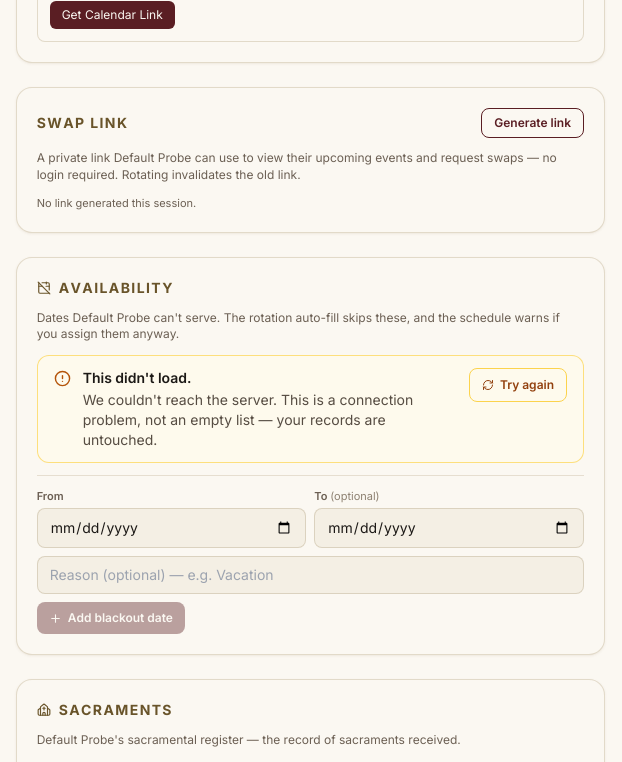
Scenario: availability section when the read fails › retry reads the dates again
(page scrolled)
Expected: the text "This didn't load." is shown, left=83, top=369, right=192, bottom=386
Click the button "Try again".
click(518, 385)  # box left=469, top=368, right=567, bottom=402
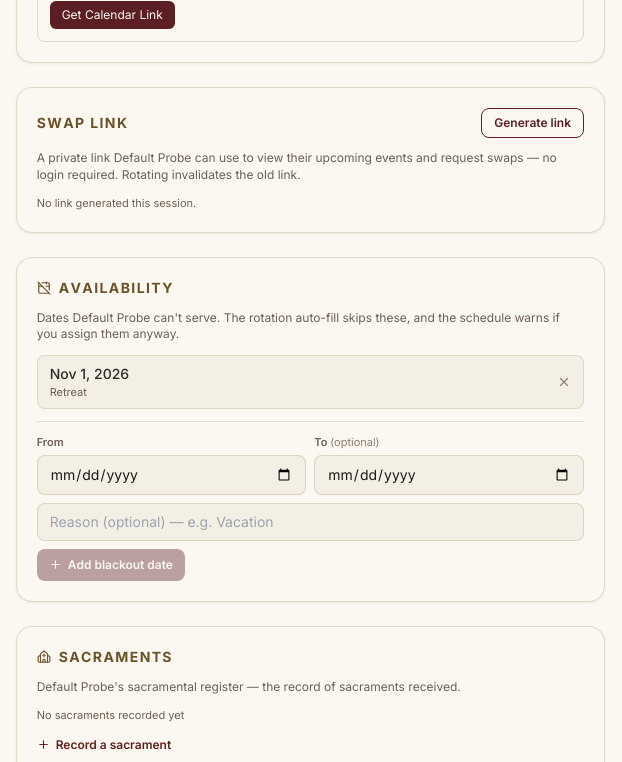
Now the text "Retreat" is shown, box left=50, top=385, right=87, bottom=399
Now the text "This didn't load." is gone
